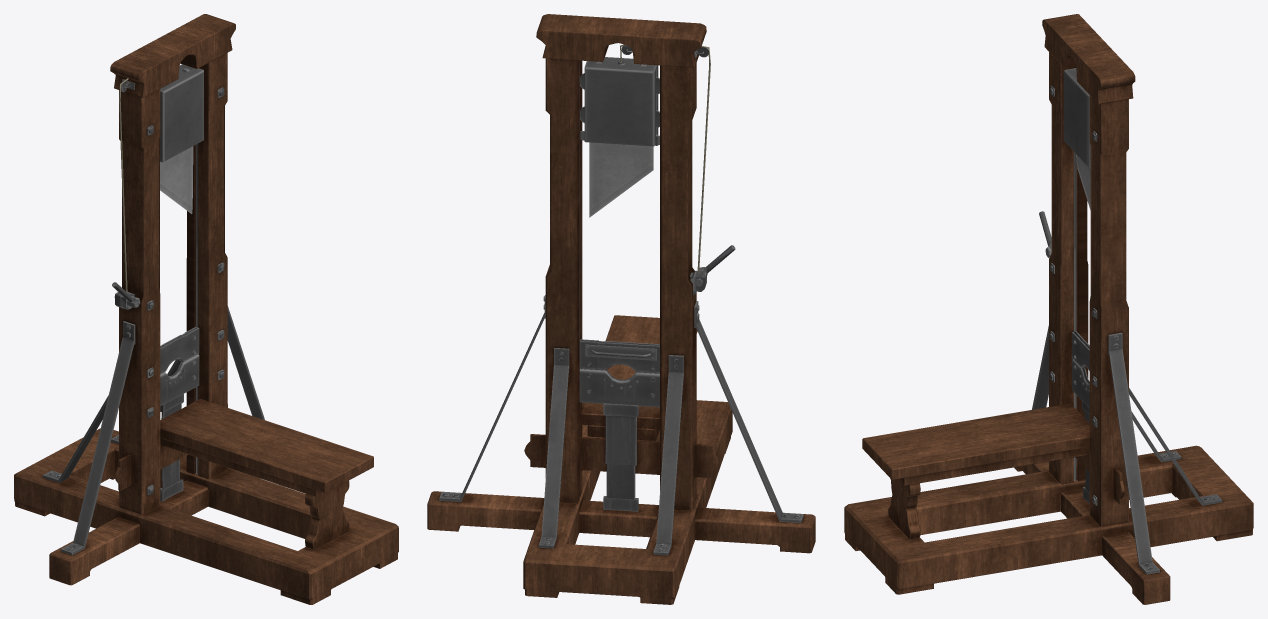
The picture shows the model from 3 angles, left to right: view 1: azimuth 30°, elevation 25°; view 2: azimuth 150°, elevation 25°; view 3: azimuth 270°, elevation 25°; orthographic projection. The views are drawn at different scales.
Parts seen in each view (by area): view 1: Guillotine_Beam_Horizontal_6, Guillotine_Beam_Vertical_6, Guillotine_Beam_Vertical_2, Guillotine_Bed, Guillotine_Top, Guillotine_SideBar_1 (×3), Guillotine_Beam_HorizontalWeight_3, Blade_Weight, Guillotine_HeadHigh (×2), Guillotine_BedPost, Blade_Blade, Guillotine_BedFrame (+2 smaller); view 2: Guillotine_Beam_Vertical_2, Guillotine_Beam_Horizontal_6, Guillotine_Beam_Vertical_6, Guillotine_Beam_HorizontalWeight_3, Guillotine_SideBar_1 (×4), Guillotine_Top, Blade_Weight, Guillotine_CenterBRace2, Blade_Blade, Guillotine_CenterBRace, Guillotine_Bed, Guillotine_HeadHigh2 (+3 smaller); view 3: Guillotine_Beam_Horizontal_6, Guillotine_Beam_Vertical_2, Guillotine_Beam_Vertical_6, Guillotine_Bed, Guillotine_SideBar_1 (×3), Guillotine_Top, Guillotine_Beam_HorizontalWeight_3, Blade_Weight, Guillotine_BedFrame, Guillotine_BedPost, Guillotine_Beam_Vertical_5.
Boxes of the visible parts, left/top/right/bottom form: Guillotine_Beam_Horizontal_6: left=14, top=428, right=398, bottom=604; Guillotine_Beam_Vertical_6: left=119, top=89, right=160, bottom=514; Guillotine_Beam_Vertical_2: left=186, top=53, right=227, bottom=478; Guillotine_Bed: left=160, top=399, right=373, bottom=492; Guillotine_Top: left=110, top=14, right=235, bottom=97; Guillotine_SideBar_1 (×3): left=43, top=306, right=264, bottom=555; Guillotine_Beam_HorizontalWeight_3: left=49, top=468, right=259, bottom=585; Blade_Weight: left=160, top=64, right=203, bottom=162; Guillotine_HeadHigh (×2): left=160, top=327, right=199, bottom=405; Guillotine_BedPost: left=305, top=480, right=349, bottom=549; Blade_Blade: left=160, top=146, right=193, bottom=213; Guillotine_BedFrame: left=160, top=438, right=324, bottom=497; Guillotine_Beam_Vertical_2: left=545, top=58, right=582, bottom=503; Guillotine_Beam_Horizontal_6: left=523, top=400, right=732, bottom=604; Guillotine_Beam_Vertical_6: left=660, top=63, right=696, bottom=510; Guillotine_Beam_HorizontalWeight_3: left=427, top=491, right=815, bottom=553; Guillotine_SideBar_1 (×4): left=439, top=295, right=803, bottom=555; Guillotine_Top: left=536, top=14, right=706, bottom=67; Blade_Weight: left=584, top=57, right=658, bottom=146; Guillotine_CenterBRace2: left=603, top=403, right=638, bottom=511; Blade_Blade: left=589, top=142, right=653, bottom=217; Guillotine_CenterBRace: left=524, top=434, right=718, bottom=478; Guillotine_Bed: left=580, top=315, right=697, bottom=429; Guillotine_HeadHigh2: left=579, top=368, right=659, bottom=407; Guillotine_Beam_Horizontal_6: left=844, top=445, right=1253, bottom=594; Guillotine_Beam_Vertical_2: left=1089, top=95, right=1128, bottom=526; Guillotine_Beam_Vertical_6: left=1049, top=52, right=1088, bottom=484; Guillotine_Bed: left=862, top=403, right=1089, bottom=479; Guillotine_SideBar_1 (×3): left=1032, top=325, right=1222, bottom=574; Guillotine_Top: left=1042, top=14, right=1135, bottom=104; Guillotine_Beam_HorizontalWeight_3: left=1014, top=461, right=1170, bottom=604; Blade_Weight: left=1063, top=68, right=1090, bottom=167; Guillotine_BedFrame: left=898, top=447, right=1089, bottom=485; Guillotine_BedPost: left=888, top=478, right=920, bottom=539; Guillotine_Beam_Vertical_5: left=1074, top=68, right=1076, bottom=480.
Bounding box in the file's own units: 1.32 × 2 × 1.53.
Materials: 5 (5 with a texture image).
